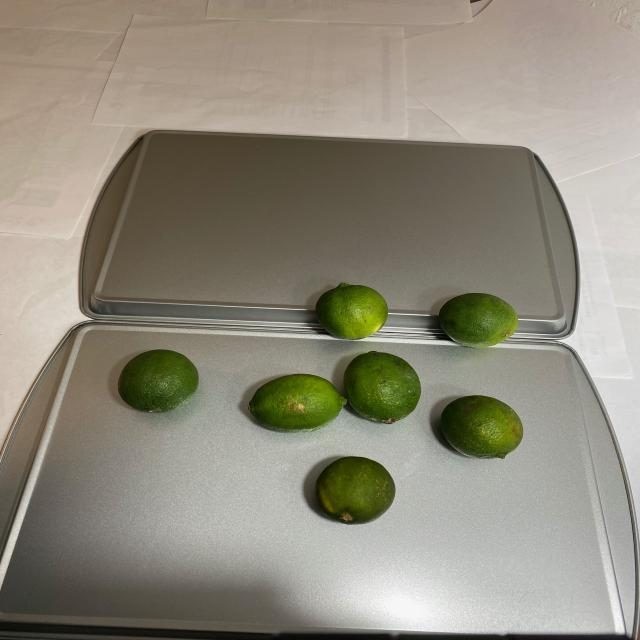lemon: (112, 281, 522, 530)
